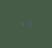eight: (26, 19, 32, 27)
four: (19, 20, 25, 28)
